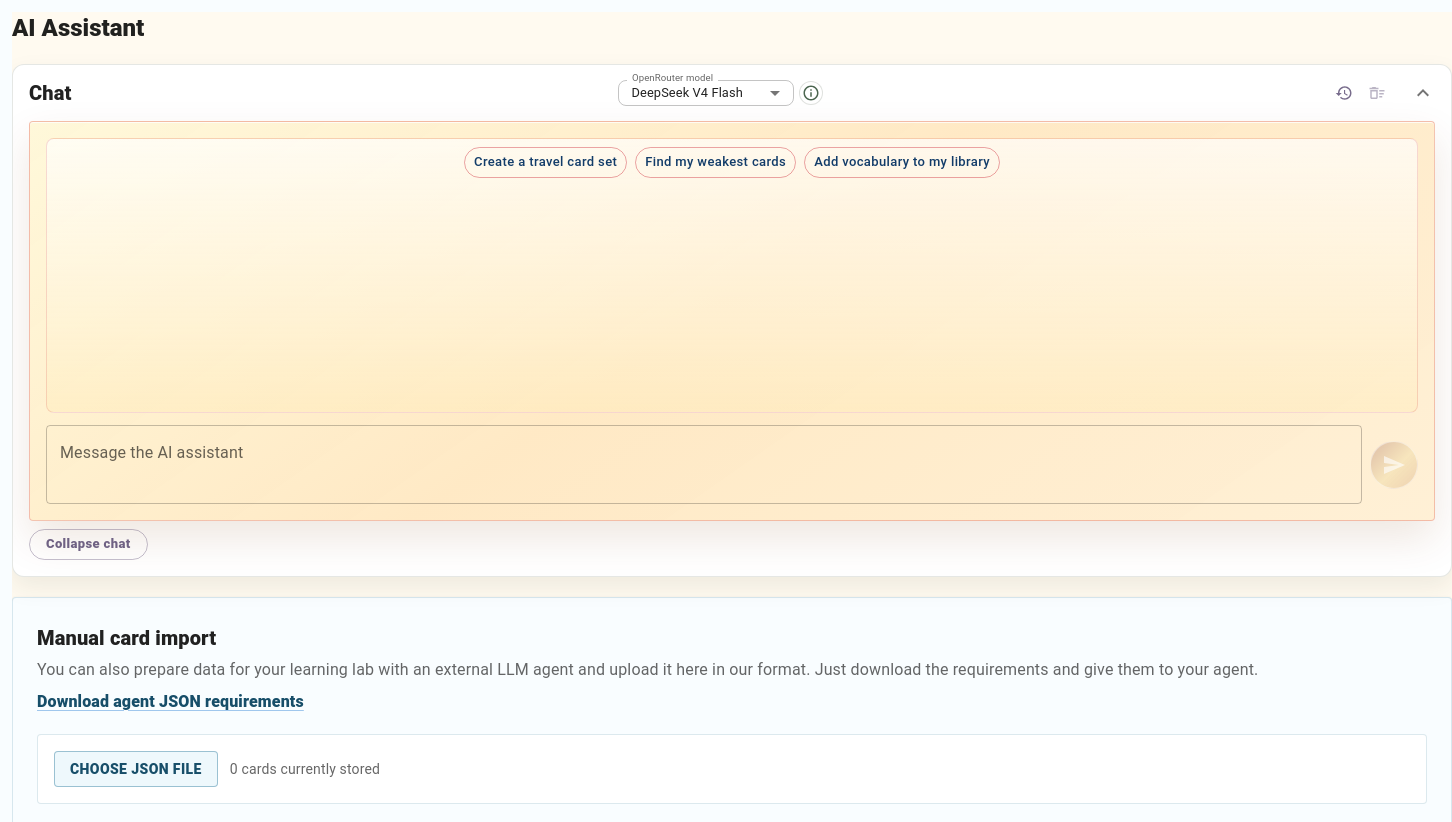
Test: AiAssistantView chat › sends, shows thinking, and cancels with the request signal
Type "Analyze my cards" into the text box labelled "Message the AI assistant".
click(704, 464); type("Analyze my cards")  # box 60,442 -> 1348,488
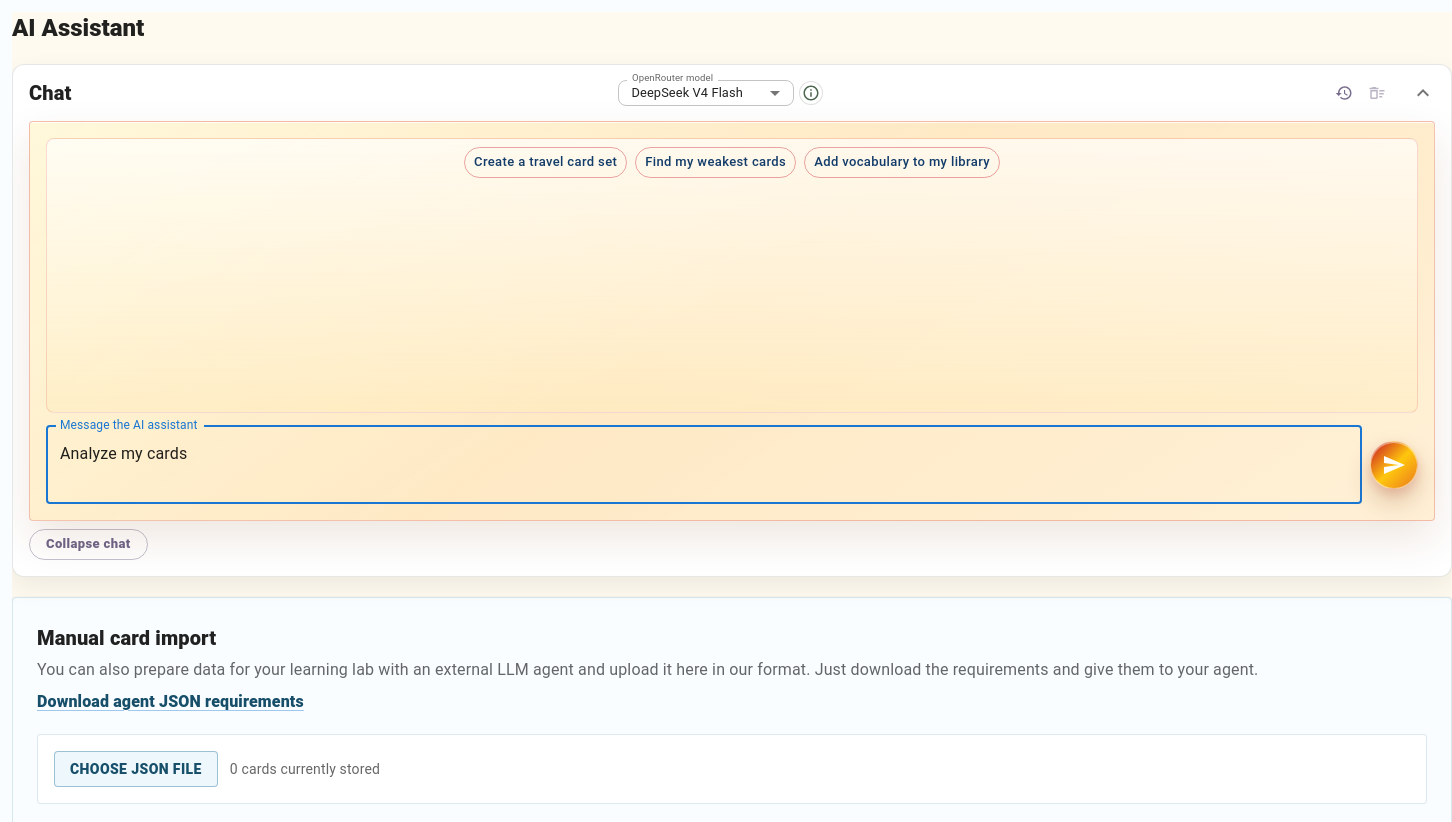
Click the button named "Send message".
click(1394, 464)  # box 1370,440 -> 1418,488
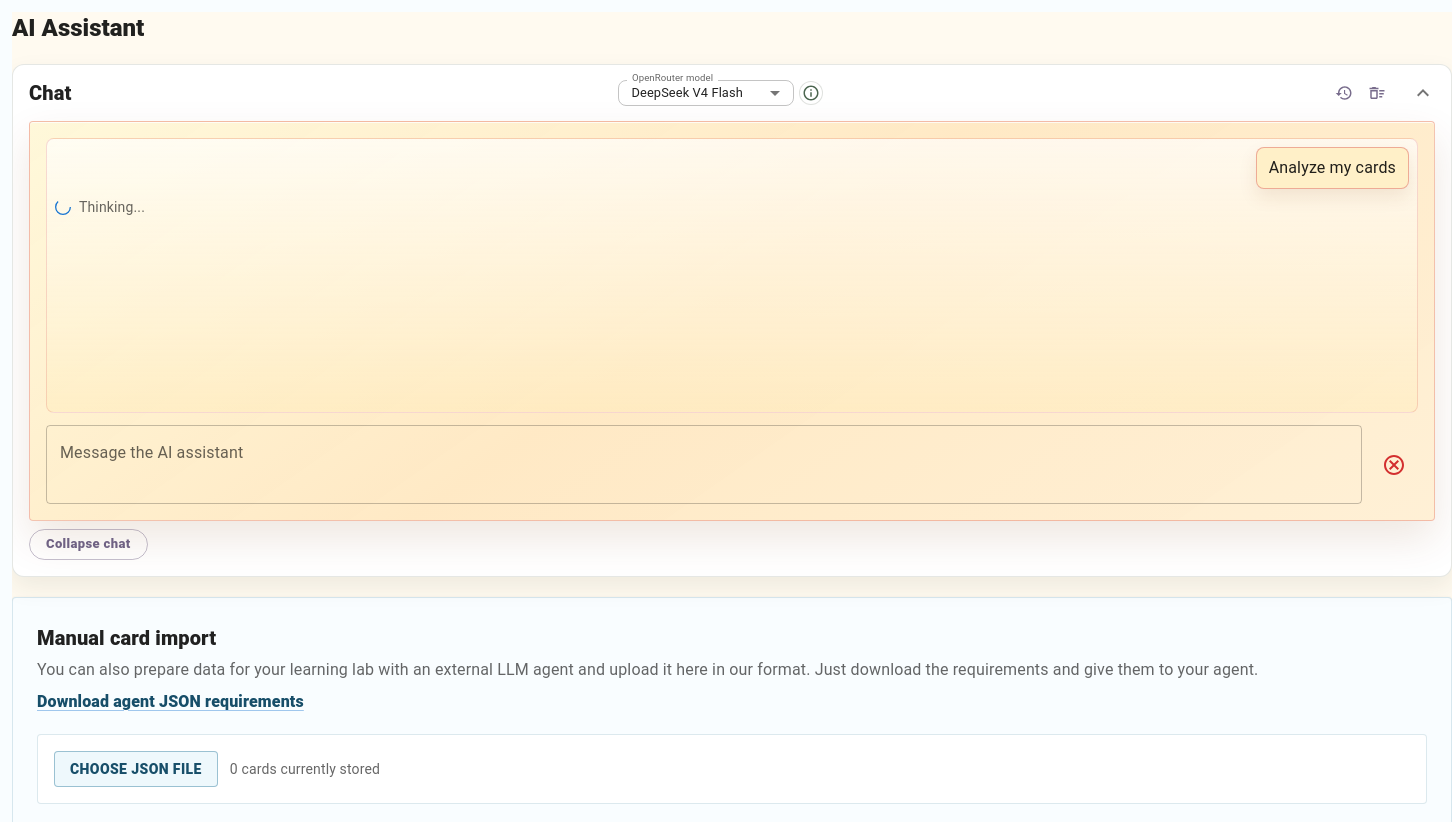
Expected: the text "Thinking..." is shown, 79,197 -> 145,217
Expected: the text "Analyze my cards" is shown, 1269,156 -> 1396,180
Click the button named "Cancel request".
click(1394, 464)  # box 1370,440 -> 1418,488
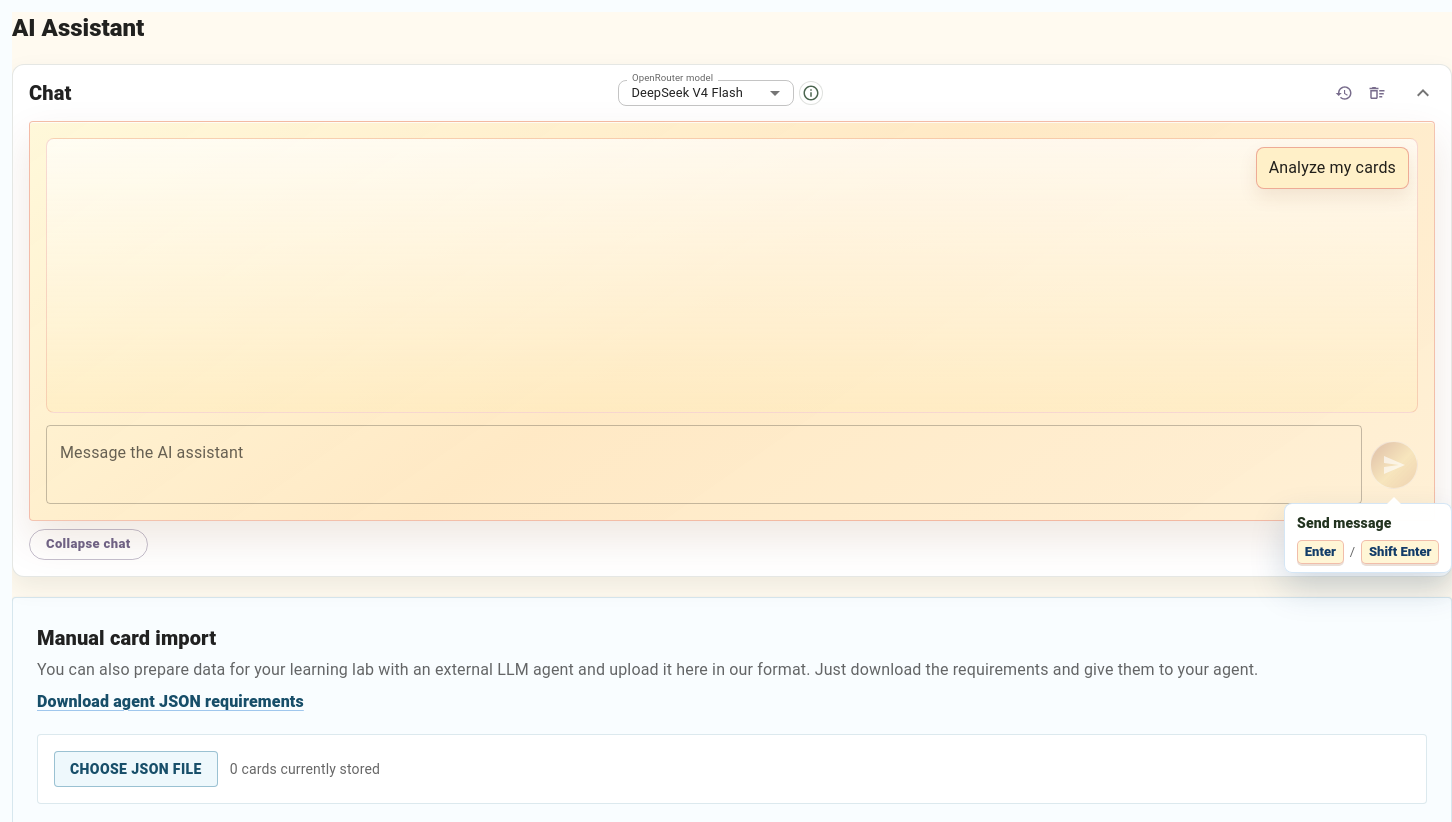
Expected: the text "Thinking..." is gone
